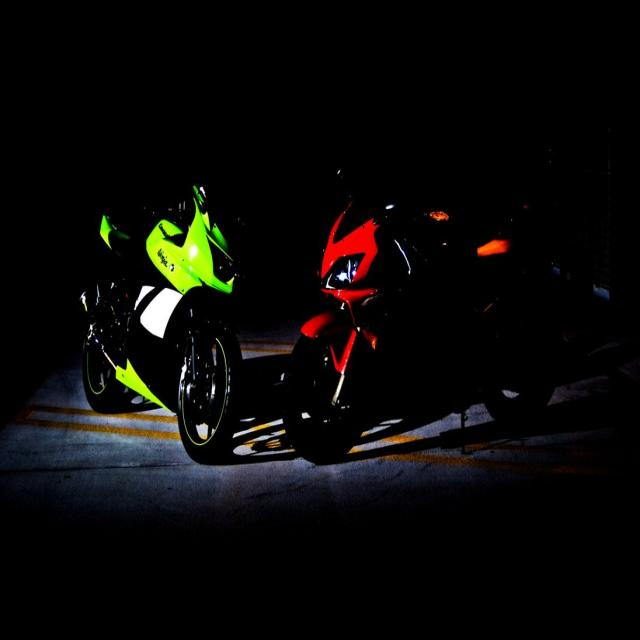Motorbike: (280, 177, 573, 478), (74, 176, 241, 460)
